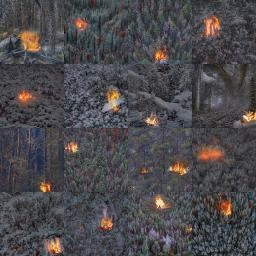Small fire: (103, 75, 131, 125), (191, 138, 236, 166), (195, 15, 236, 42), (63, 9, 101, 37), (206, 191, 239, 223), (16, 22, 44, 58), (149, 47, 178, 75), (31, 175, 63, 198), (13, 85, 43, 109), (96, 207, 118, 237), (163, 159, 195, 179), (39, 235, 68, 255), (62, 134, 86, 157), (149, 192, 174, 213), (140, 111, 165, 131), (237, 104, 256, 129)
